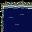Interaction: (0, 0, 32, 11), (0, 11, 7, 32)
Slow: (4, 10, 32, 32)
